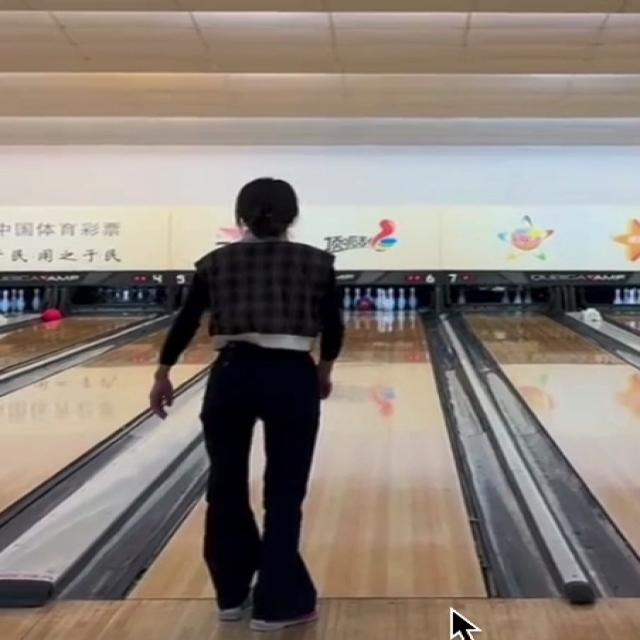alley: (303, 309, 483, 596), (133, 511, 207, 597)
balls: (357, 297, 375, 311)
bottle: (341, 286, 422, 311)
